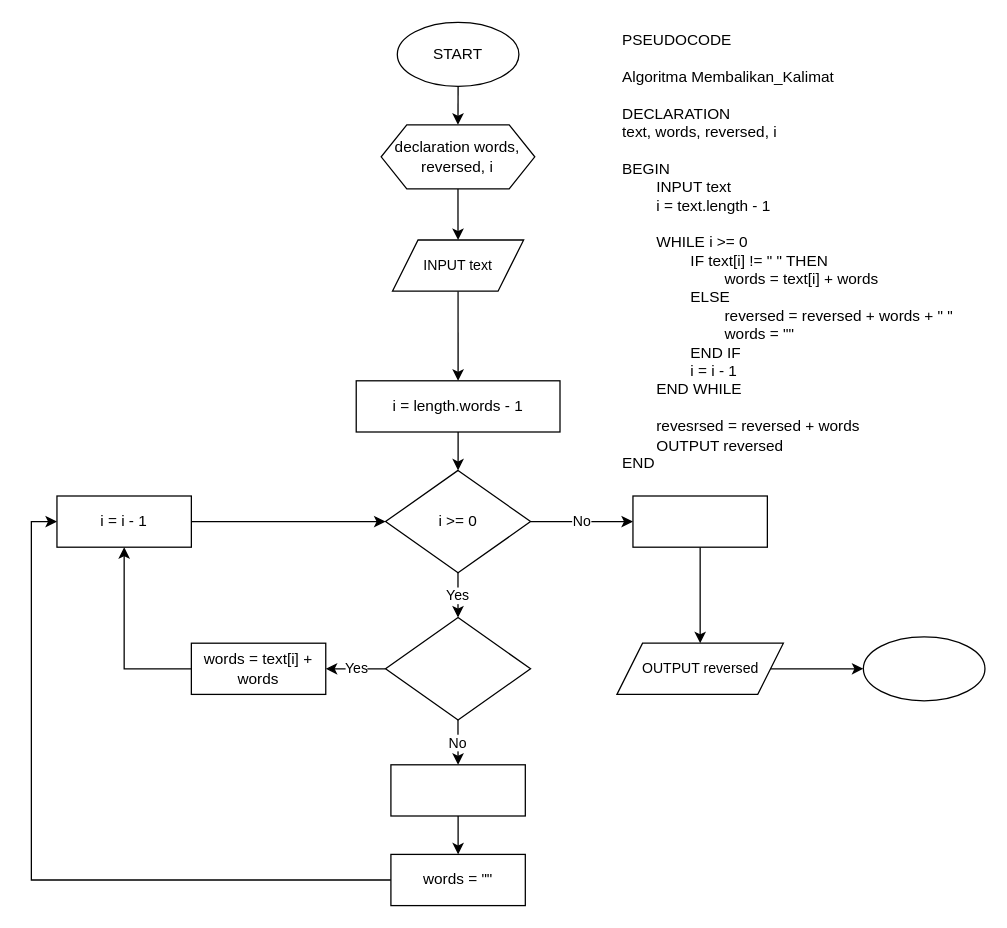
This 1007x928 diagram has some shape labels left out. Here are the shapes that lost their labels. From the top down, the centre of each, then its label:
point 699,521: reversed = reversed + words
point 457,668: text[i] != " "
point 923,668: END
point 457,790: reversed = reversed + words + " "
